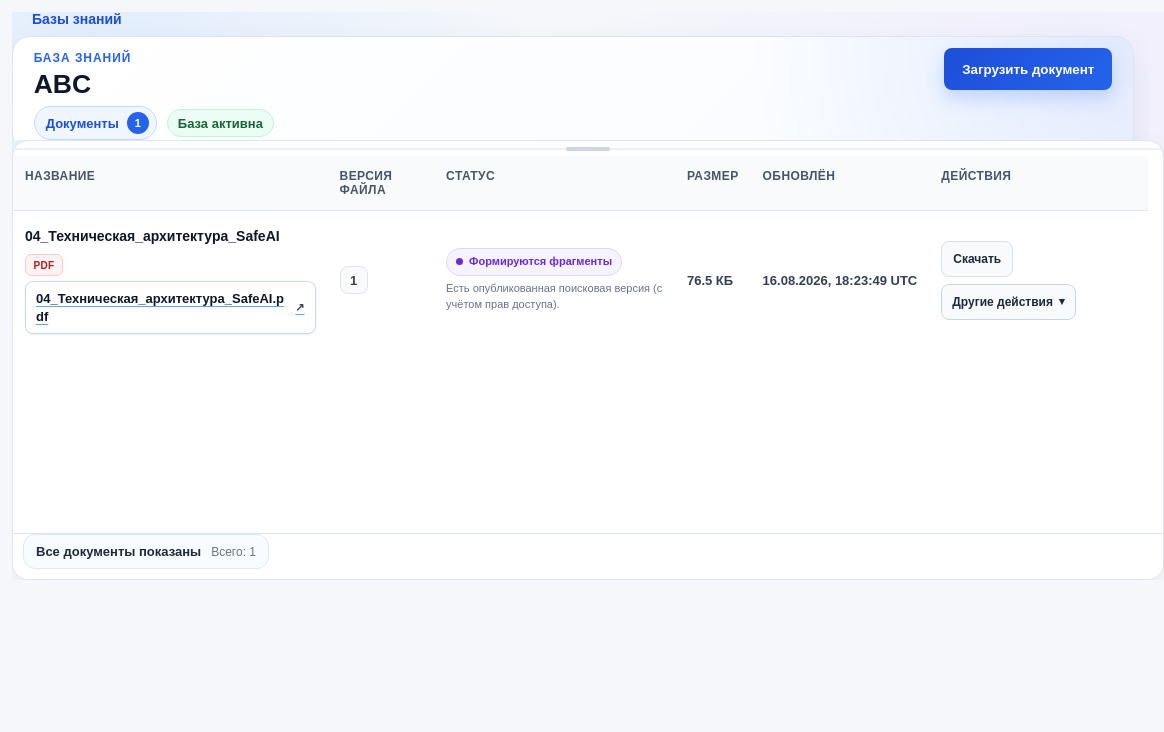
it: KnowledgeDetailsPage › не запускает reindex, пока документ обрабатывается
The image size is (1164, 732).
Click the heading "Другие действия" at (1008, 302), box x1=941 y1=284 x2=1076 y2=320
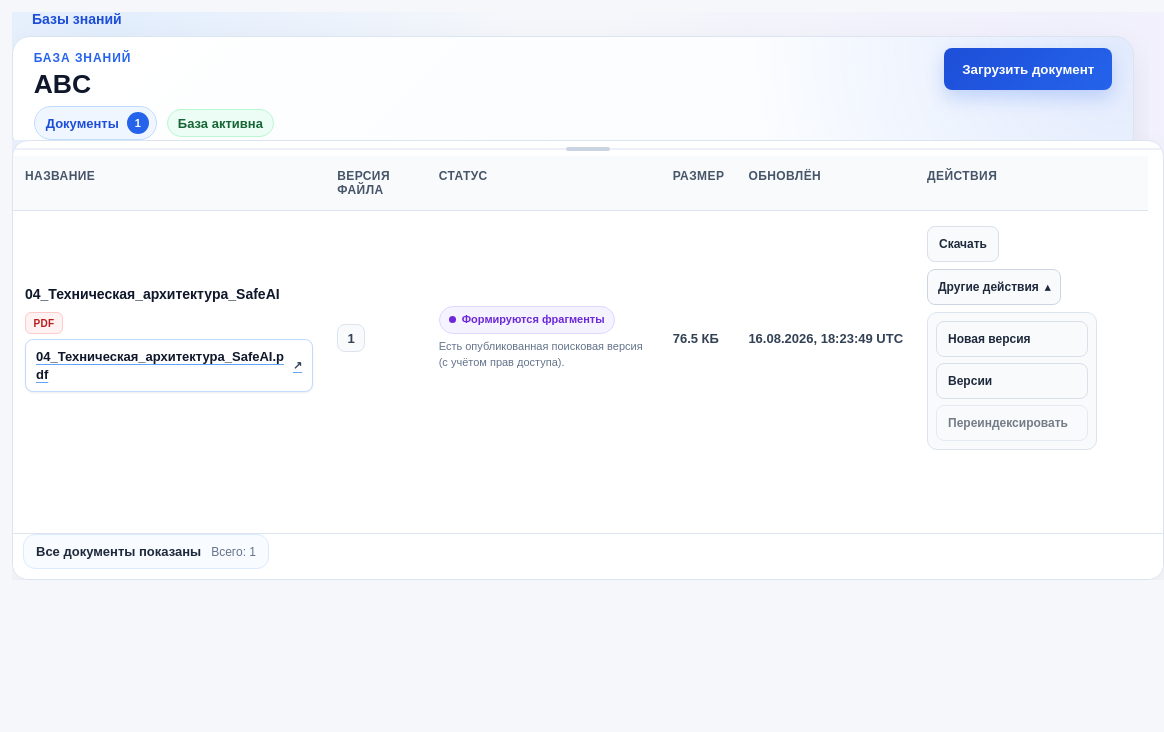
Expected: the button "Переиндексировать" is disabled, x1=936 y1=405 x2=1088 y2=441
